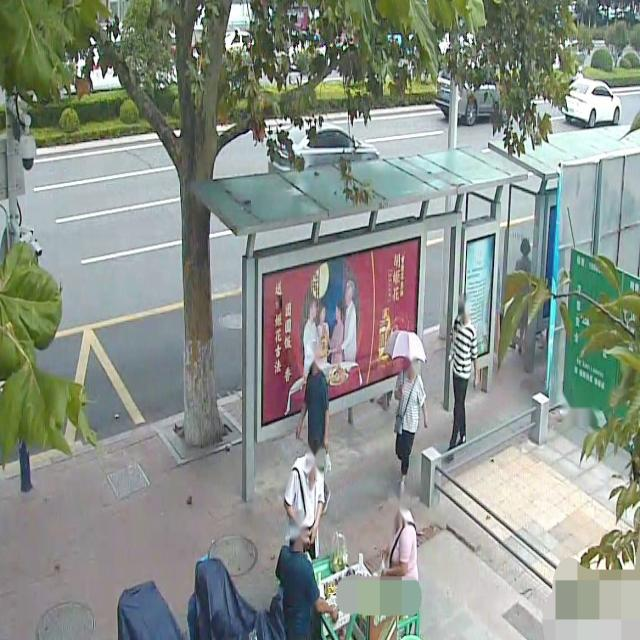car: (308, 547, 421, 640)
fixed_stall: (310, 551, 390, 640)
